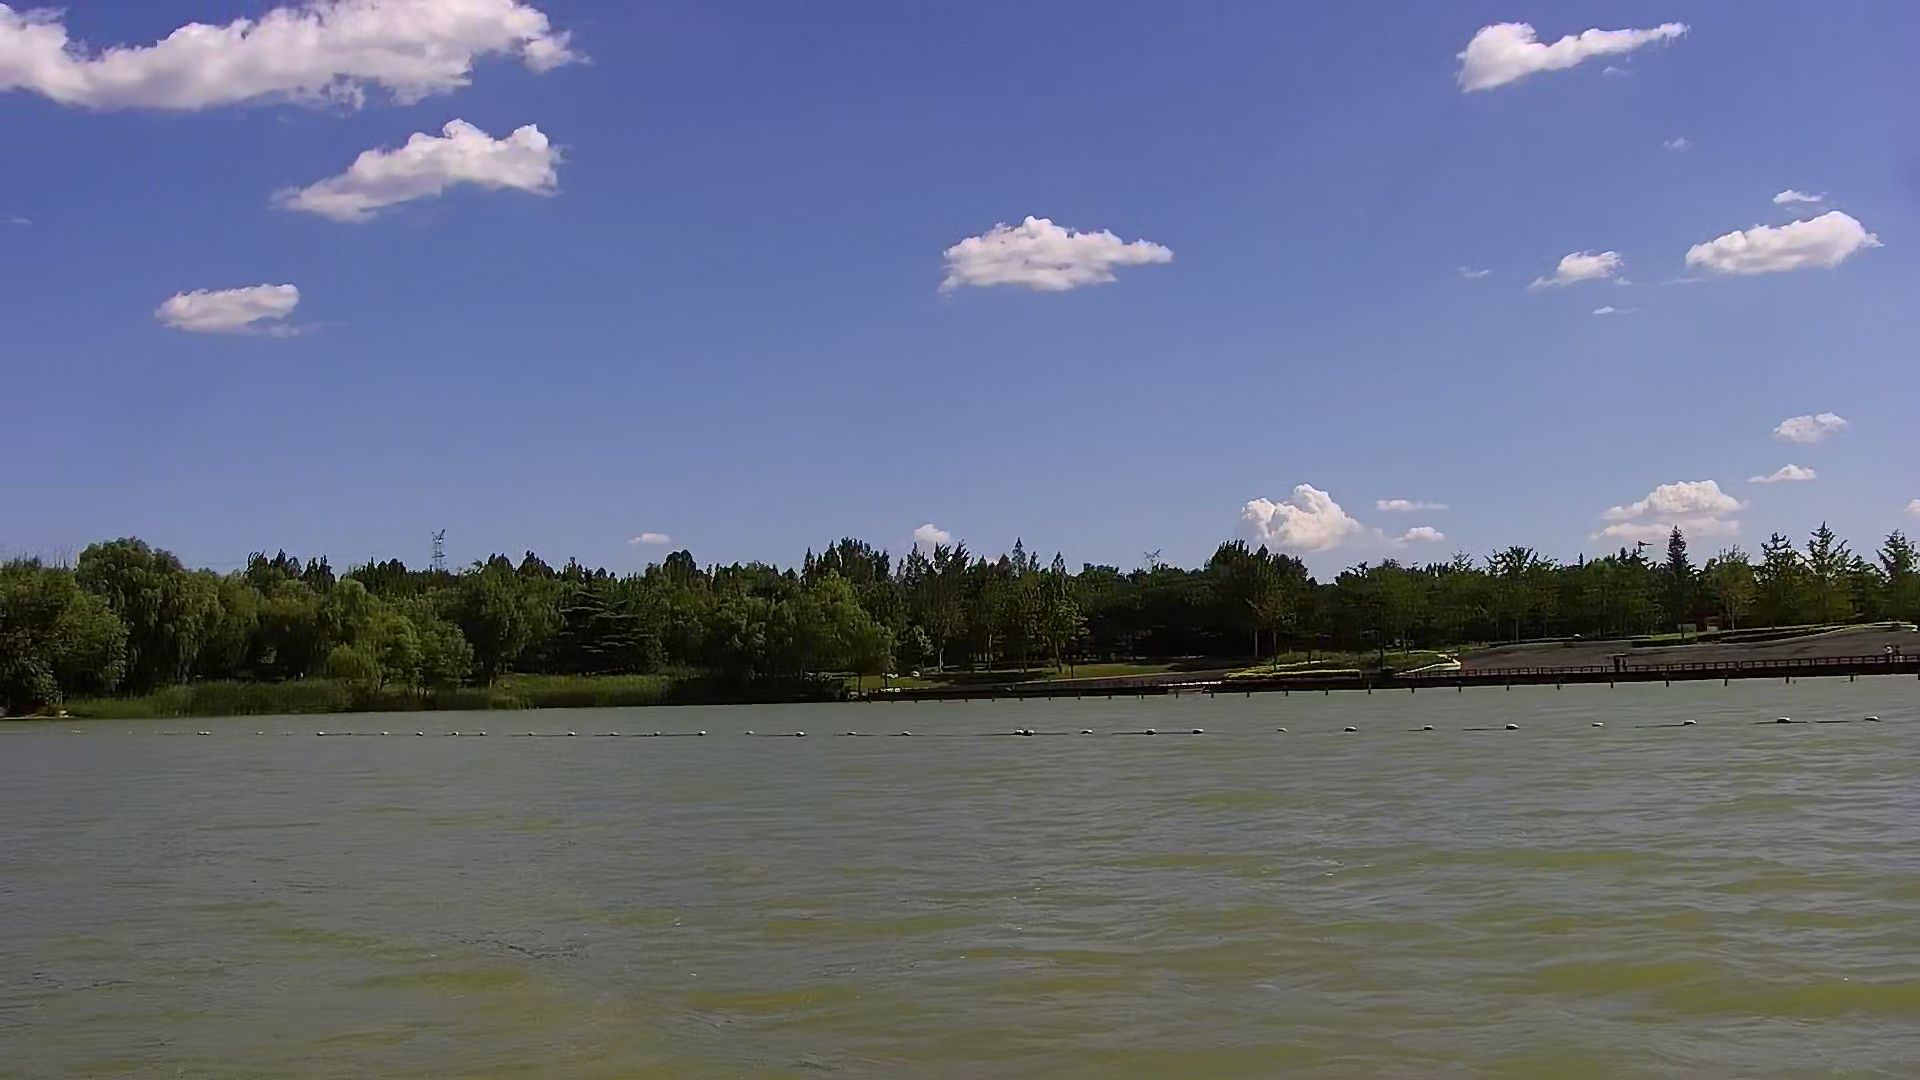ball: (1501, 709, 1518, 745), (1337, 720, 1362, 742), (1139, 721, 1162, 740), (1774, 713, 1792, 729)
harbor: (1415, 622, 1920, 686)
